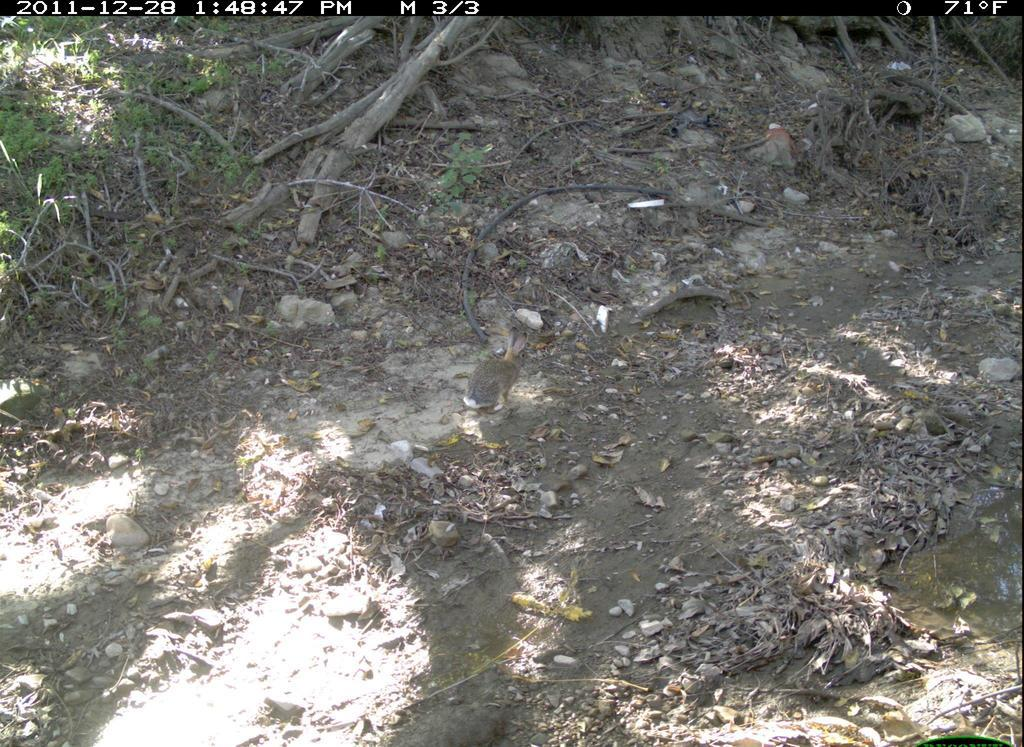rabbit: (465, 331, 537, 413)
